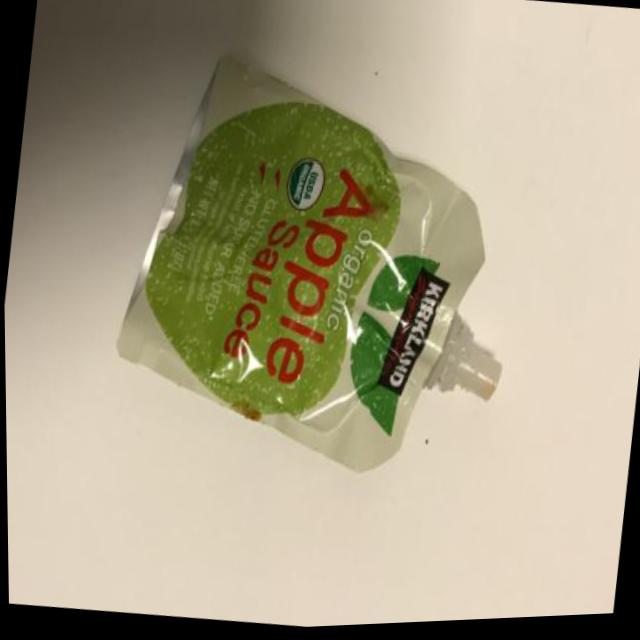trash: (55, 0, 609, 558)
